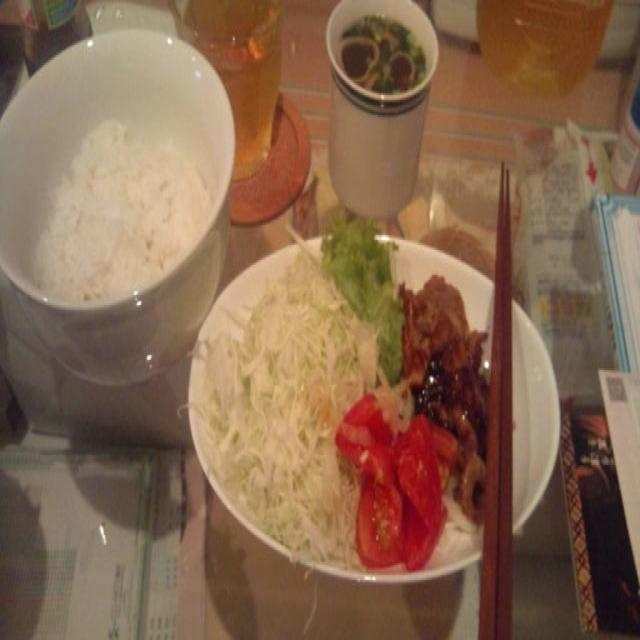Green Salad: (231, 224, 408, 548)
Rice: (31, 102, 222, 310)
